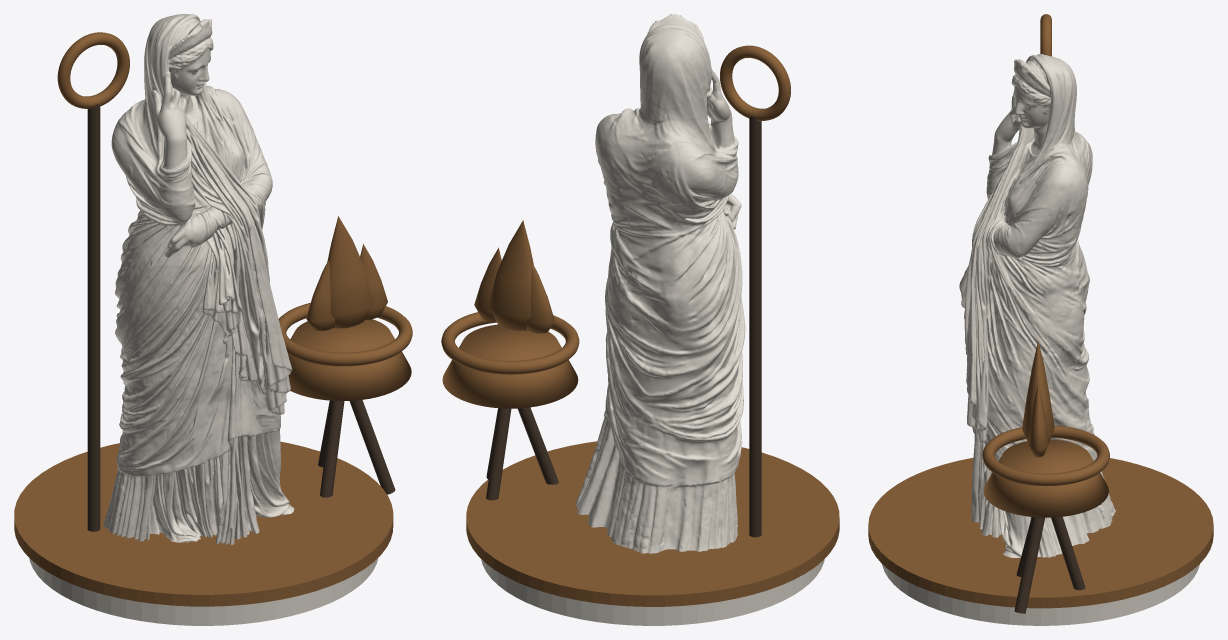
The model's file is hestia.glb.
3 views of the same model, side by side, from view 1: azimuth 30°, elevation 25°; view 2: azimuth 150°, elevation 25°; view 3: azimuth 270°, elevation 25° (orthographic). The views are drawn at different scales.
Visible parts, largest first — view 1: Figura drapeada · base KAS199, Moldura del plinto, Cuenco del hogar, Plinto principal, Bastón de Hestia, Llama central, Borde del hogar, Remate circular, Pata del hogar.001, Pata del hogar, Llama lateral, Llama lateral.001; view 2: Figura drapeada · base KAS199, Moldura del plinto, Cuenco del hogar, Plinto principal, Bastón de Hestia, Llama central, Borde del hogar, Remate circular, Pata del hogar.002, Llama lateral, Pata del hogar, Llama lateral.001; view 3: Figura drapeada · base KAS199, Moldura del plinto, Cuenco del hogar, Plinto principal, Borde del hogar, Llama central, Pata del hogar.001, Llama lateral.001, Pata del hogar.002, Remate circular.
Part boxes in pixels (x1=…): Figura drapeada · base KAS199: x1=103, y1=14, x2=294, y2=545; Moldura del plinto: x1=14, y1=441, x2=393, y2=606; Cuenco del hogar: x1=288, y1=319, x2=411, y2=400; Plinto principal: x1=29, y1=558, x2=378, y2=625; Bastón de Hestia: x1=87, y1=104, x2=100, y2=531; Llama central: x1=327, y1=216, x2=373, y2=328; Borde del hogar: x1=278, y1=303, x2=412, y2=366; Remate circular: x1=57, y1=32, x2=129, y2=108; Pata del hogar.001: x1=349, y1=400, x2=395, y2=494; Pata del hogar: x1=320, y1=400, x2=344, y2=497; Llama lateral: x1=306, y1=260, x2=334, y2=330; Llama lateral.001: x1=360, y1=244, x2=387, y2=320; Figura drapeada · base KAS199: x1=575, y1=14, x2=745, y2=553; Moldura del plinto: x1=466, y1=441, x2=839, y2=606; Cuenco del hogar: x1=442, y1=324, x2=578, y2=408; Plinto principal: x1=481, y1=559, x2=824, y2=625; Bastón de Hestia: x1=749, y1=116, x2=761, y2=537; Llama central: x1=488, y1=220, x2=533, y2=330; Borde del hogar: x1=441, y1=312, x2=579, y2=374; Remate circular: x1=720, y1=45, x2=790, y2=120; Pata del hogar.002: x1=486, y1=408, x2=511, y2=500; Llama lateral: x1=526, y1=264, x2=554, y2=333; Pata del hogar: x1=518, y1=407, x2=558, y2=484; Llama lateral.001: x1=474, y1=247, x2=501, y2=322; Figura drapeada · base KAS199: x1=959, y1=54, x2=1115, y2=557; Moldura del plinto: x1=868, y1=457, x2=1213, y2=608; Cuenco del hogar: x1=983, y1=439, x2=1108, y2=517; Plinto principal: x1=882, y1=564, x2=1199, y2=625; Borde del hogar: x1=982, y1=425, x2=1109, y2=486; Llama central: x1=1022, y1=341, x2=1054, y2=442; Pata del hogar.001: x1=1014, y1=517, x2=1044, y2=613; Llama lateral.001: x1=1028, y1=383, x2=1048, y2=457; Pata del hogar.002: x1=1051, y1=517, x2=1085, y2=590; Remate circular: x1=1040, y1=14, x2=1051, y2=56.
Size of the model in its own units: 1.47 by 2.08 by 1.32.
